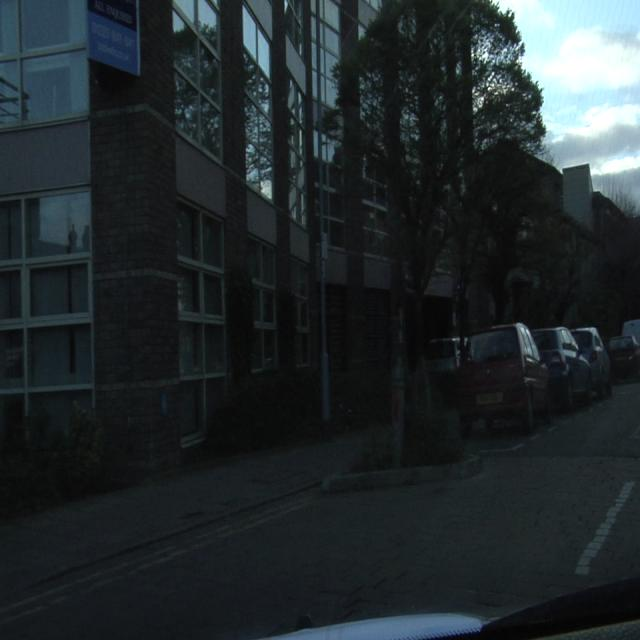Building: (0, 1, 391, 466)
Car: (456, 325, 546, 435), (535, 328, 610, 406), (608, 335, 640, 379)
Road: (3, 466, 639, 634)
Tree: (337, 0, 638, 331)
